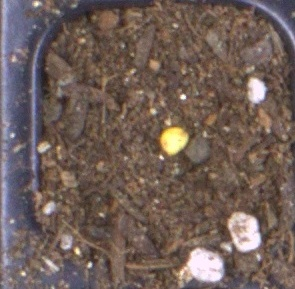chilli seed: (158, 127, 189, 157)
